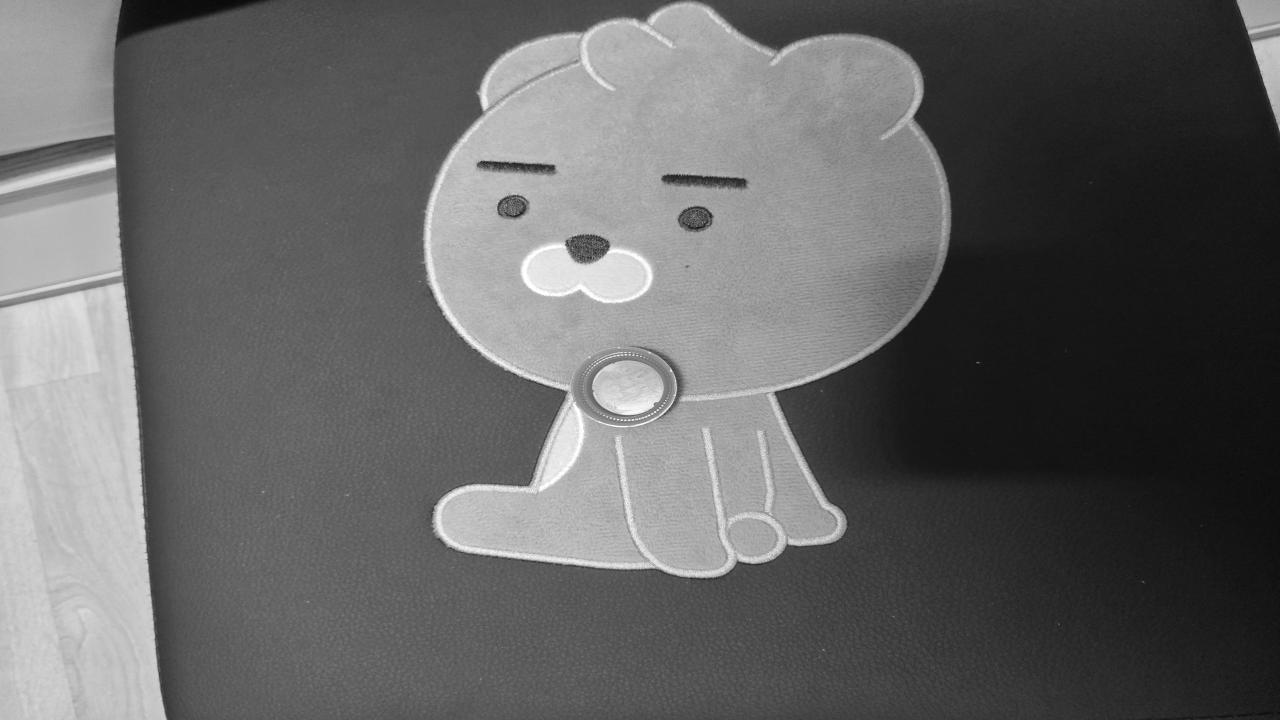bottle_cap: (576, 348, 678, 426)
